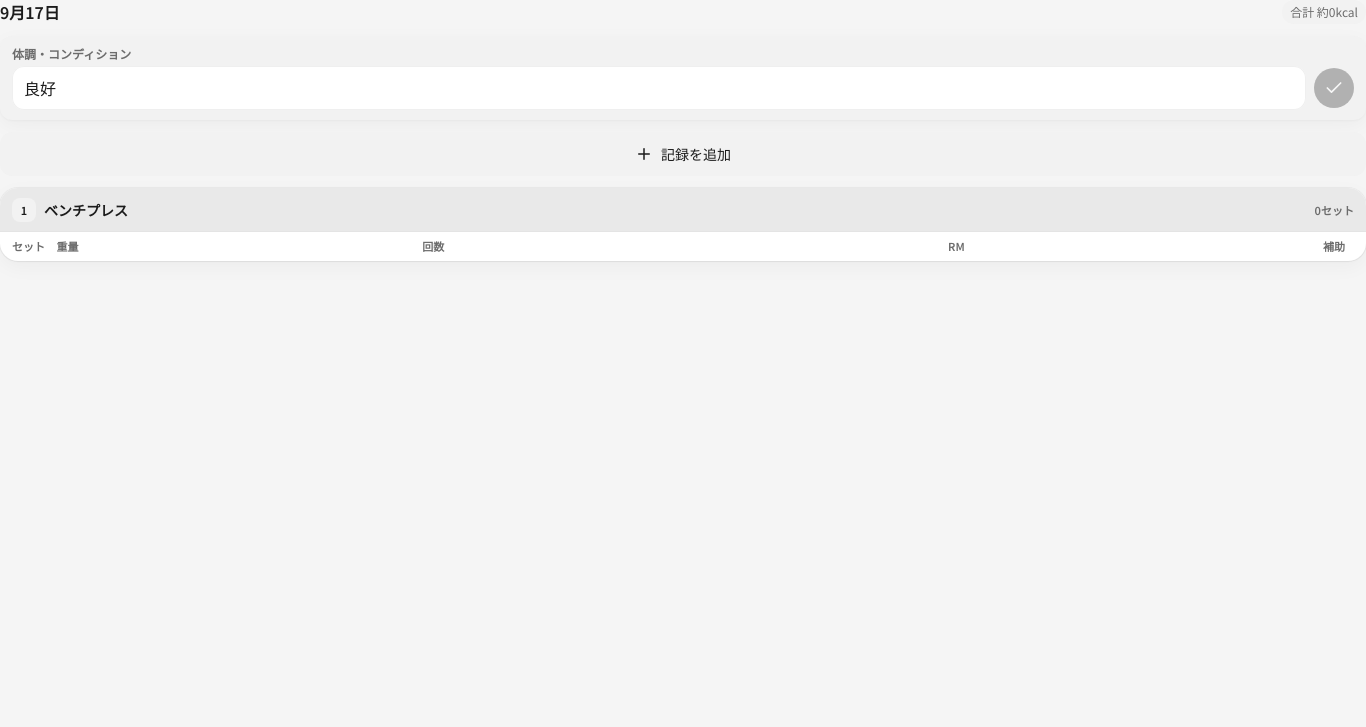
Test case: inline workout creation › saves the inline draft with the day's condition, refreshes the list and shows green feedback
The width and height of the screenshot is (1366, 727).
Expected: the heading "1 ベンチプレス" is shown, left=12, top=198, right=128, bottom=222
Expected: the button "記録を追加" is enabled, left=0, top=132, right=1365, bottom=176
Replace the text in the field named "その日のコンディション" with "疲労あり" at (659, 88), box left=12, top=66, right=1306, bottom=110
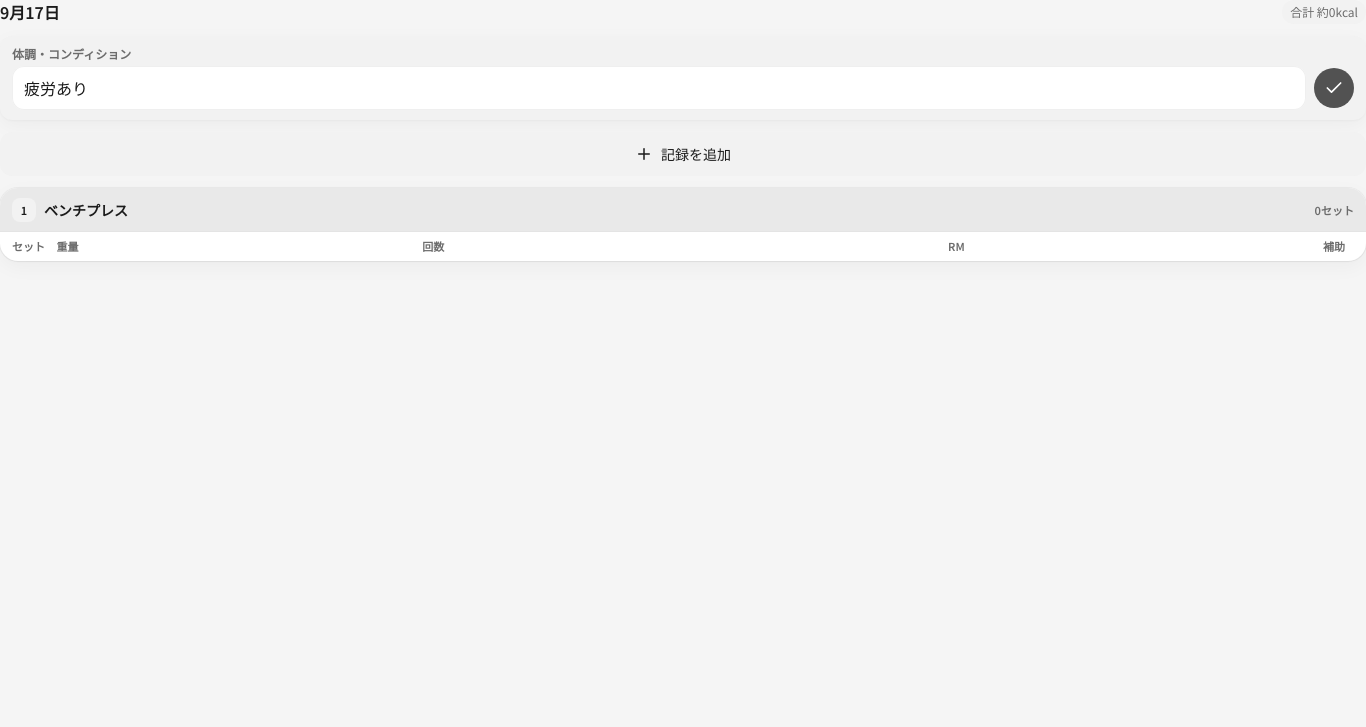
Click the button "記録を追加".
click(683, 154)  # box left=0, top=132, right=1365, bottom=176
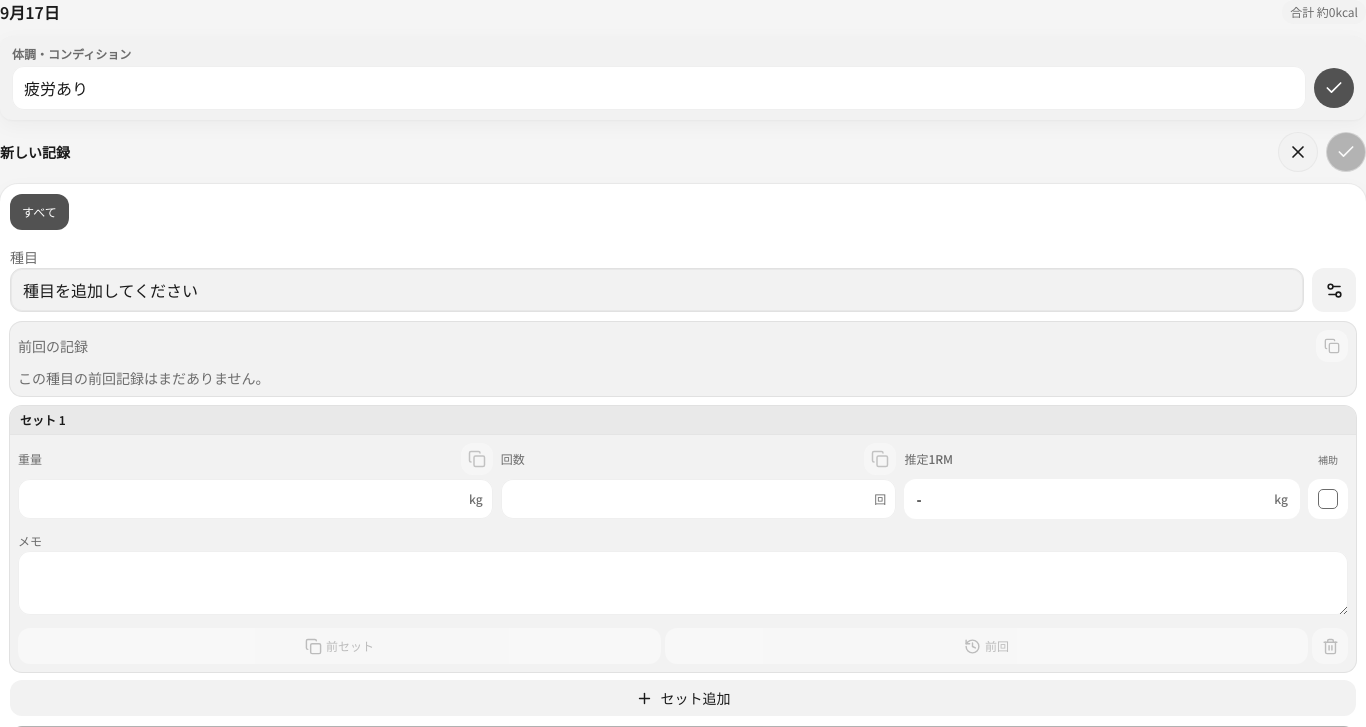
Select "ベンチプレス" in the dropdown at (657, 290), box left=10, top=268, right=1304, bottom=312
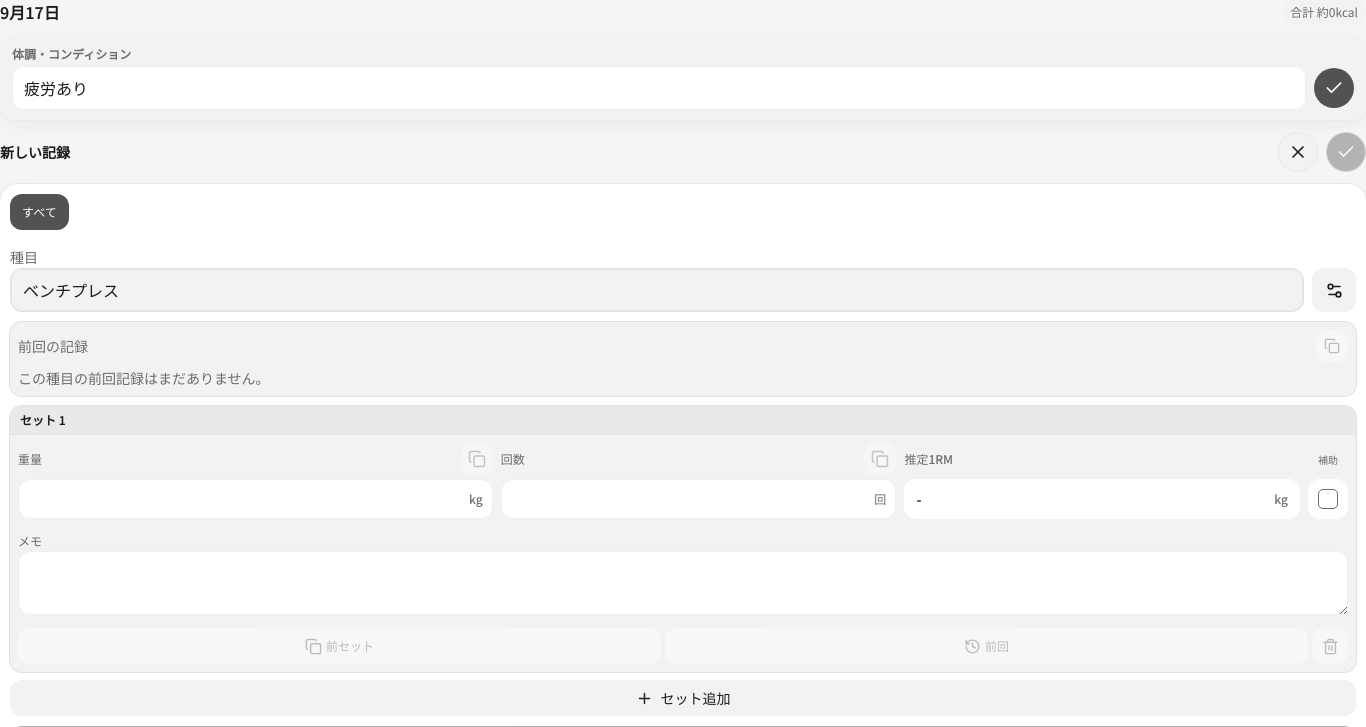
Type "20" into the field named "セット1の重量".
click(255, 499); type("20")  # box left=18, top=479, right=493, bottom=519
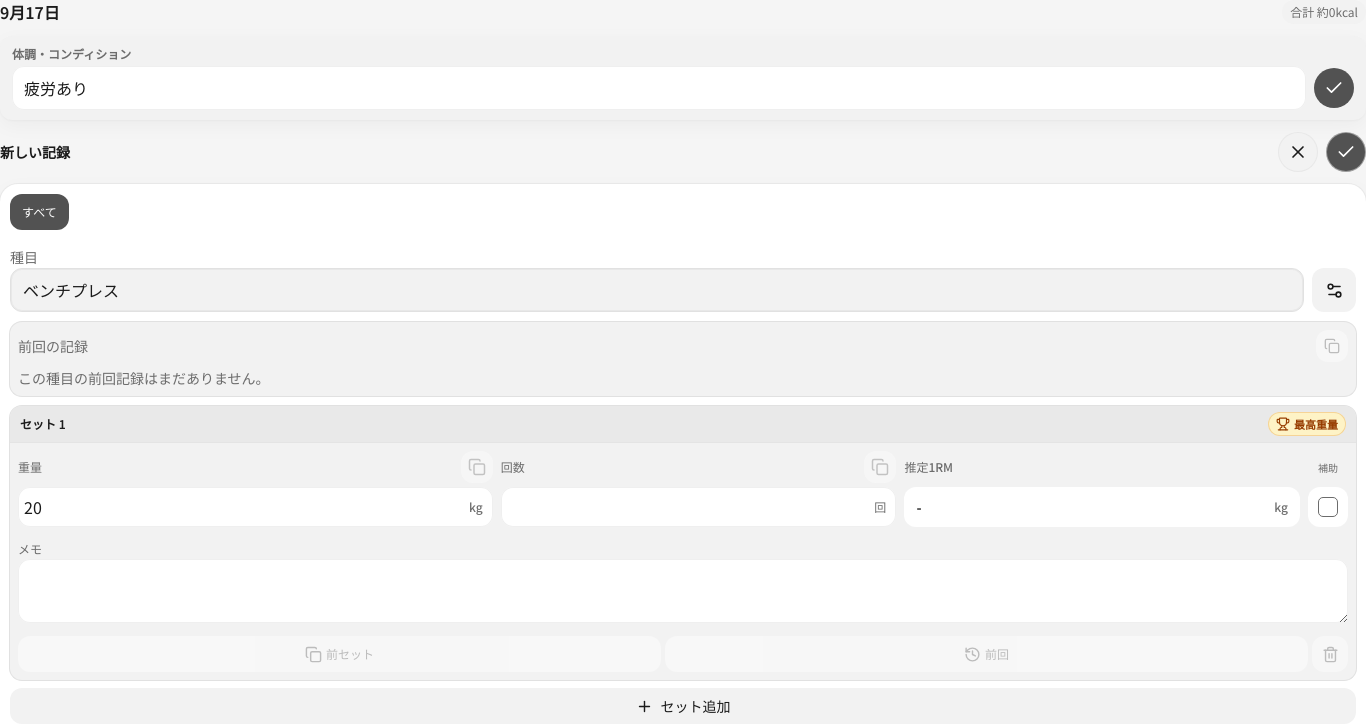
Type "10" into the field named "セット1の回数".
click(699, 507); type("10")  # box left=501, top=487, right=896, bottom=527
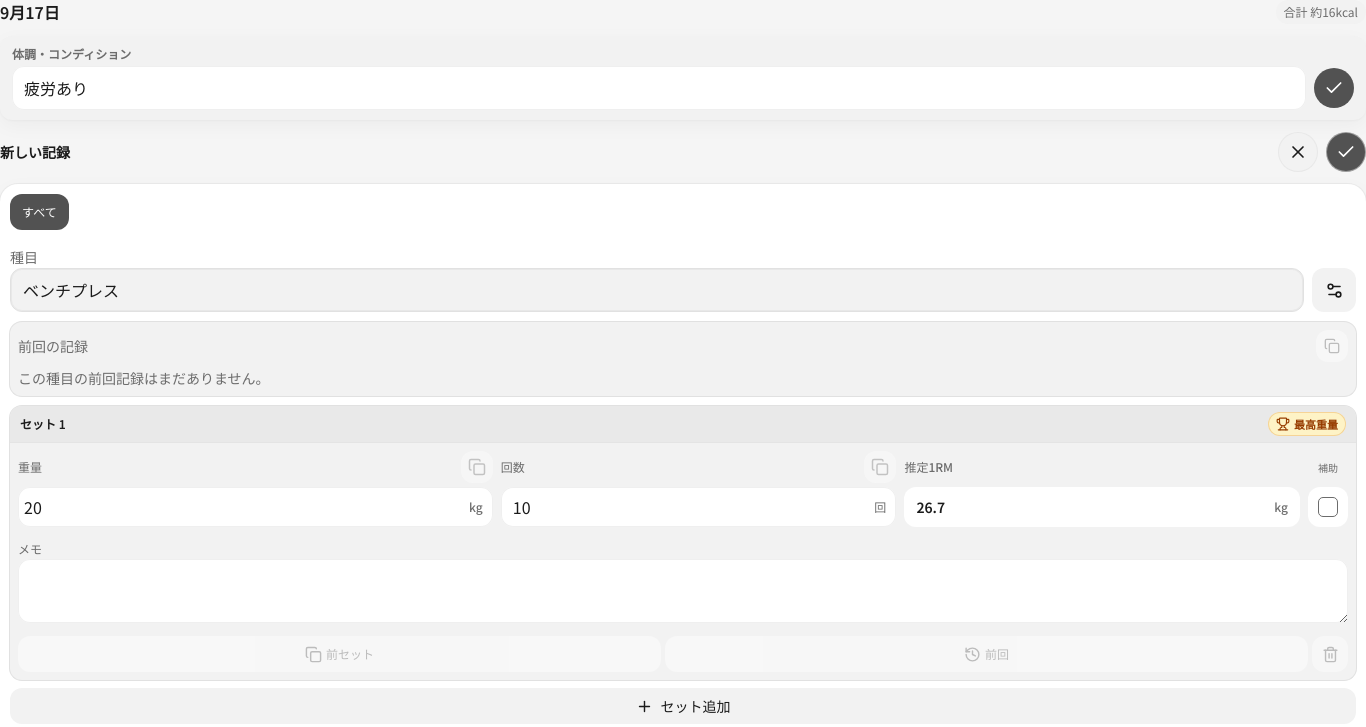
Click the button named "記録を保存".
click(1346, 152)  # box left=1326, top=132, right=1365, bottom=172
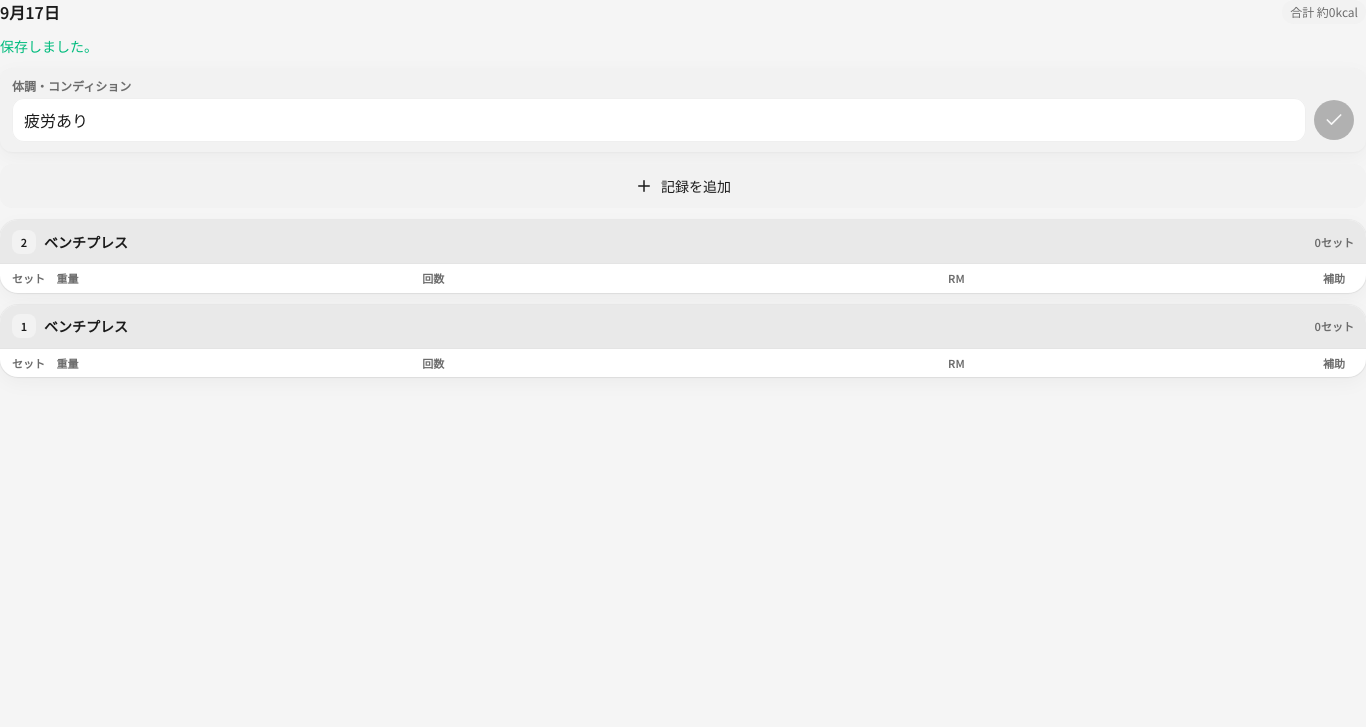
Expected: the dropdown is gone
Expected: the heading "2 ベンチプレス" is shown, left=12, top=230, right=128, bottom=254
